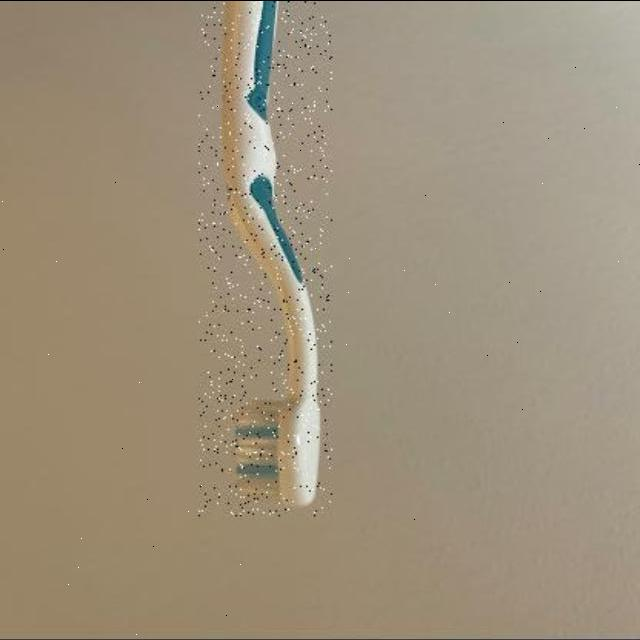toothbrush: (198, 0, 332, 516)
